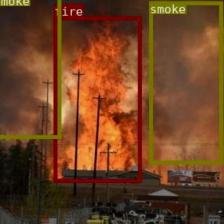fire: (53, 16, 141, 182)
smoke: (149, 0, 222, 163), (0, 0, 60, 138)
